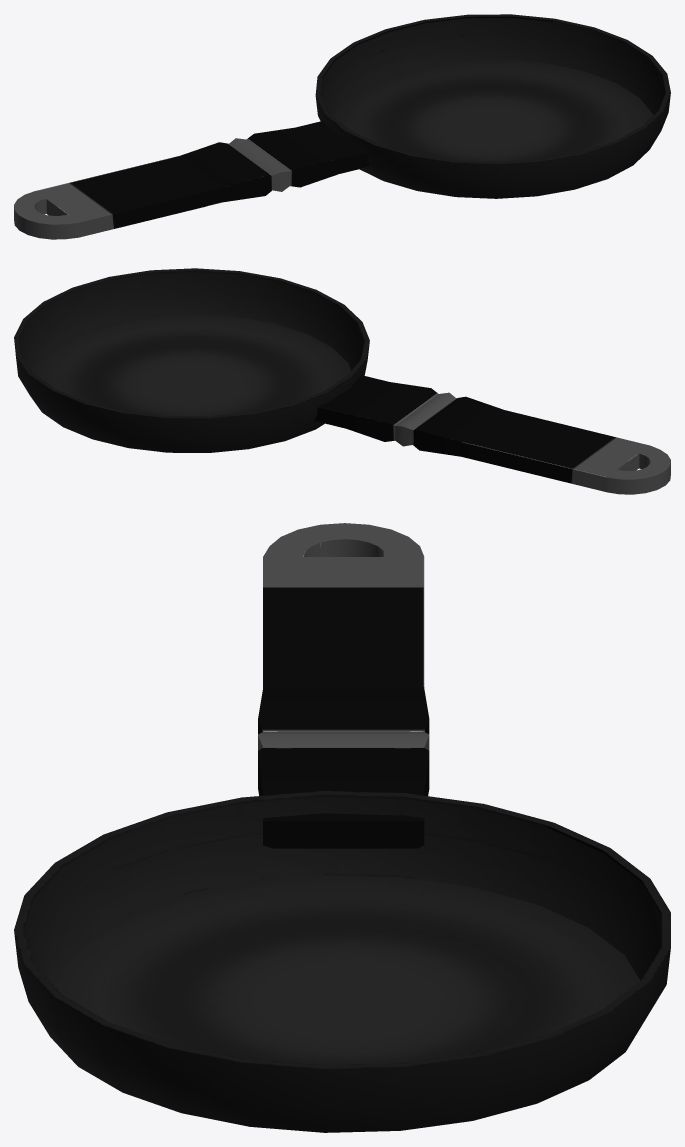
File: Pan.FBX
3 views of the same model, one above another, from view 1: azimuth 30°, elevation 25°; view 2: azimuth 150°, elevation 25°; view 3: azimuth 270°, elevation 25° (orthographic). The views are drawn at different scales.
Parts seen in each view (by area): view 1: Cylinder033, Box063; view 2: Cylinder033, Box063; view 3: Cylinder033, Box063.
Part boxes in pixels (x1,y1,x2,y2): Cylinder033: (315, 14, 670, 198); Box063: (14, 120, 370, 239); Cylinder033: (14, 268, 369, 452); Box063: (313, 375, 670, 494); Cylinder033: (14, 791, 670, 1132); Box063: (258, 523, 429, 848).
Bounding box in the file's own units: 937 × 57.8 × 459.
2 materials, 2 textured.
